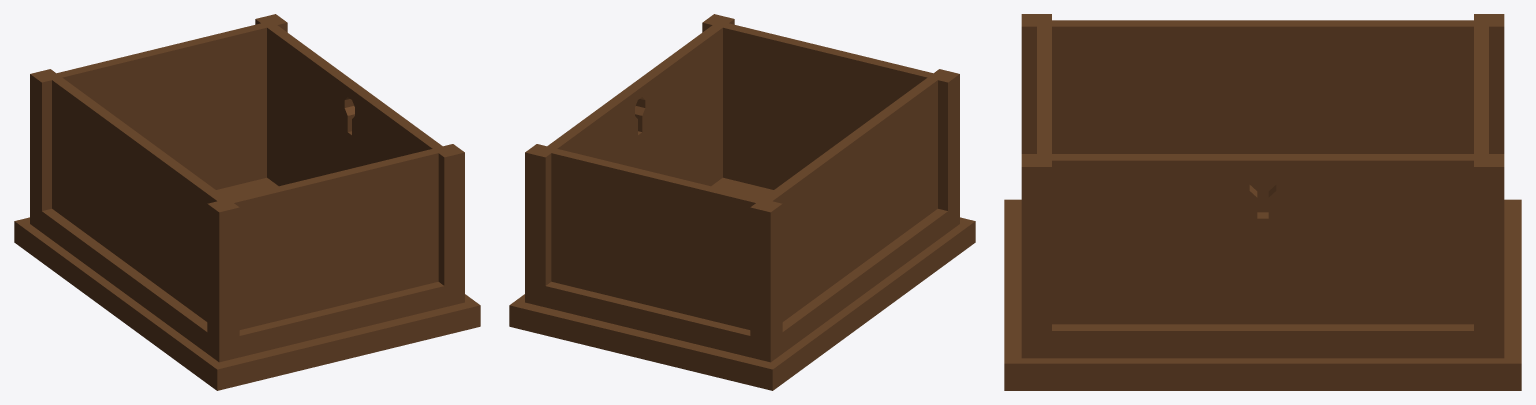
Rendered from chest_body.obj.
3 views of the same model, side by side, from view 1: azimuth 30°, elevation 25°; view 2: azimuth 150°, elevation 25°; view 3: azimuth 270°, elevation 25° (orthographic). The views are drawn at different scales.
Parts seen in each view (by area): view 1: chest_body; view 2: chest_body; view 3: chest_body.
Boxes of the visible parts, x1,y1,x2,y2 form: chest_body: (14, 14, 480, 390); chest_body: (509, 14, 975, 390); chest_body: (1004, 14, 1521, 390).
Size of the model in its own units: 0.6431 by 0.4 by 0.8574.
